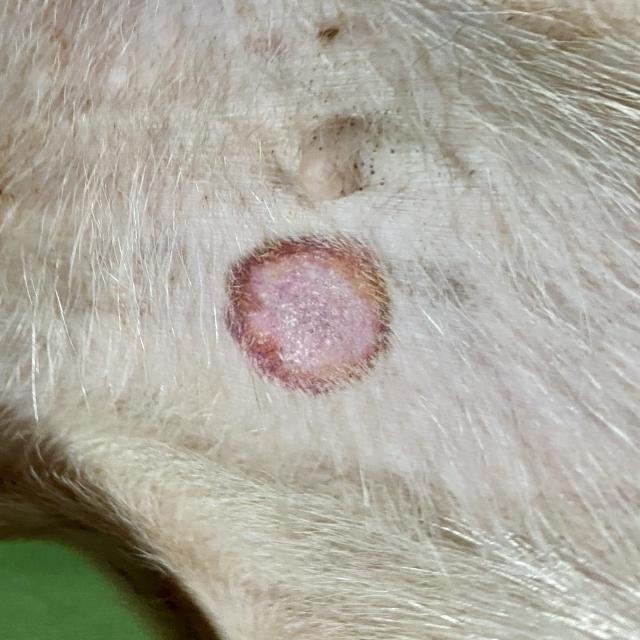ringworm: (196, 234, 418, 401)
